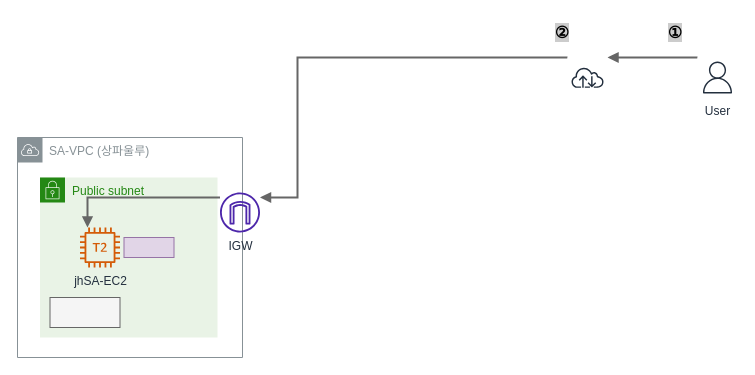
This 755x375 diagram has some shape labels left out. Each missing label, with the centre of its shape:
"HTTP /index.html" belongs at point (84, 312).
"Internet" belongs at point (587, 77).
"오리진" belongs at point (148, 247).
